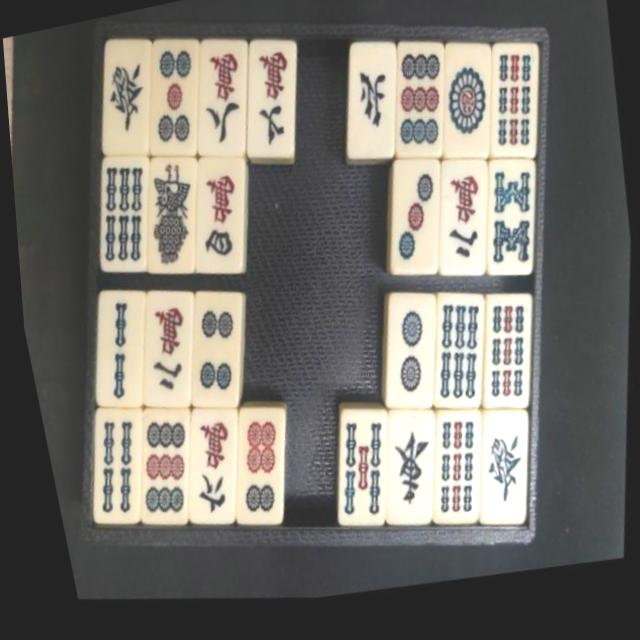hdg: (88, 42, 170, 166), (467, 416, 546, 534)
hwe: (373, 413, 453, 535)
hwn: (334, 47, 413, 167)
sb1: (132, 157, 216, 285)
sb2: (83, 295, 164, 418)
sb4: (81, 412, 161, 532)
sb5: (326, 414, 406, 535)
sb6: (86, 161, 168, 284), (421, 296, 502, 419)
sb8: (473, 162, 553, 285)
sb9: (476, 47, 556, 167), (420, 414, 500, 533), (471, 299, 549, 417)
sc2: (425, 163, 505, 285), (132, 296, 212, 415)
sc4: (182, 162, 263, 284)
sc6: (176, 412, 257, 533)
sc7: (233, 43, 315, 168)
sc8: (185, 43, 266, 168)
sd1: (428, 45, 509, 166)
sd2: (375, 299, 453, 417)
sd3: (376, 163, 458, 284)
sd4: (179, 295, 259, 415)
sd5: (134, 42, 218, 168)
sd6: (225, 412, 304, 534)
sd9: (380, 44, 462, 168), (128, 413, 209, 532)
